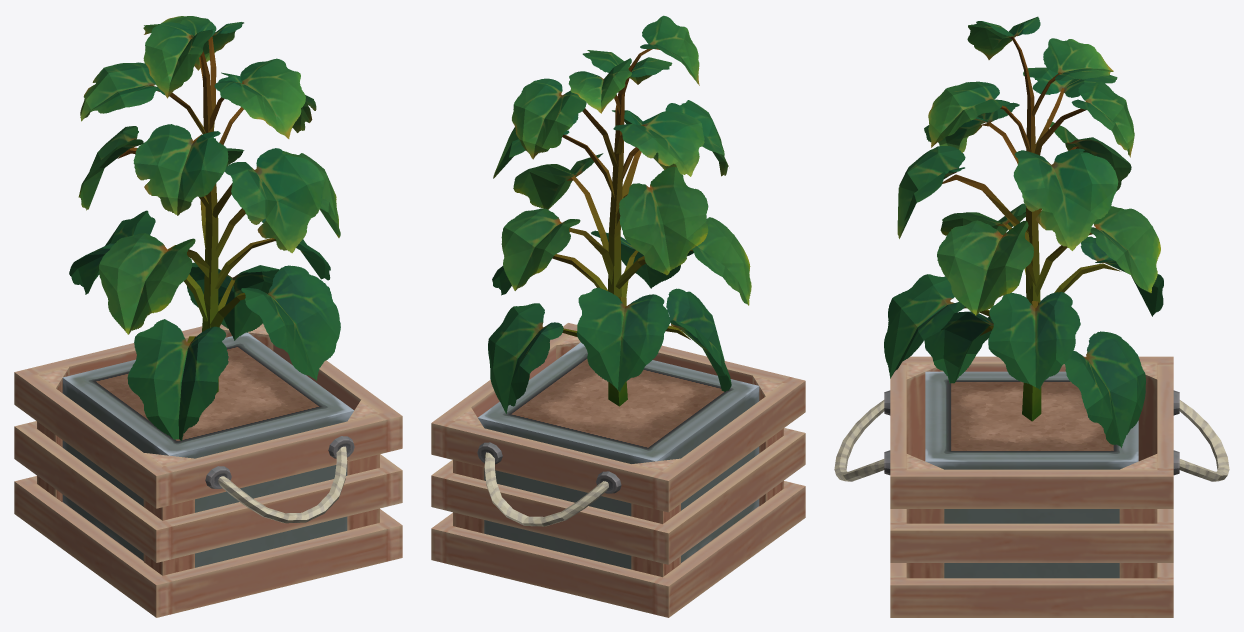
File: P_Plant_003_S1_M02.obj
The picture shows the model from 3 angles, left to right: view 1: azimuth 30°, elevation 25°; view 2: azimuth 150°, elevation 25°; view 3: azimuth 270°, elevation 25°; orthographic projection. The views are drawn at different scales.
Bounding box in the file's own units: 1.31 × 2.69 × 1.83.
2 materials, 2 textured.
